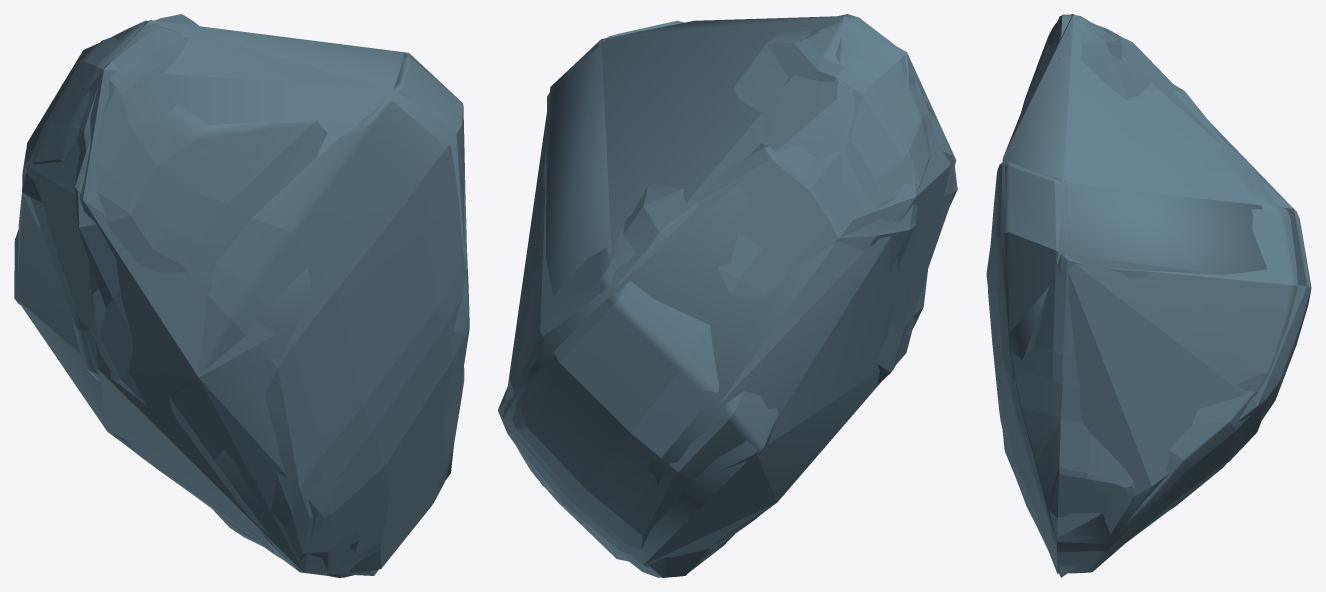
Rendered from rocks_round_J.fbx.
The picture shows the model from 3 angles, left to right: view 1: azimuth 30°, elevation 25°; view 2: azimuth 150°, elevation 25°; view 3: azimuth 270°, elevation 25°; orthographic projection. The views are drawn at different scales.
Visible parts, largest first — view 1: ROCKSROUND_J, c_ROCKSROUND_J; view 2: c_ROCKSROUND_J, ROCKSROUND_J; view 3: c_ROCKSROUND_J, ROCKSROUND_J.
Boxes of the visible parts, left/top/right/bottom form: ROCKSROUND_J: left=14, top=14, right=469, bottom=577; c_ROCKSROUND_J: left=17, top=20, right=468, bottom=575; c_ROCKSROUND_J: left=503, top=16, right=956, bottom=576; ROCKSROUND_J: left=498, top=14, right=957, bottom=577; c_ROCKSROUND_J: left=986, top=14, right=1307, bottom=577; ROCKSROUND_J: left=988, top=14, right=1311, bottom=573.
Bounding box in the file's own units: 71.71 × 102 × 62.69.
